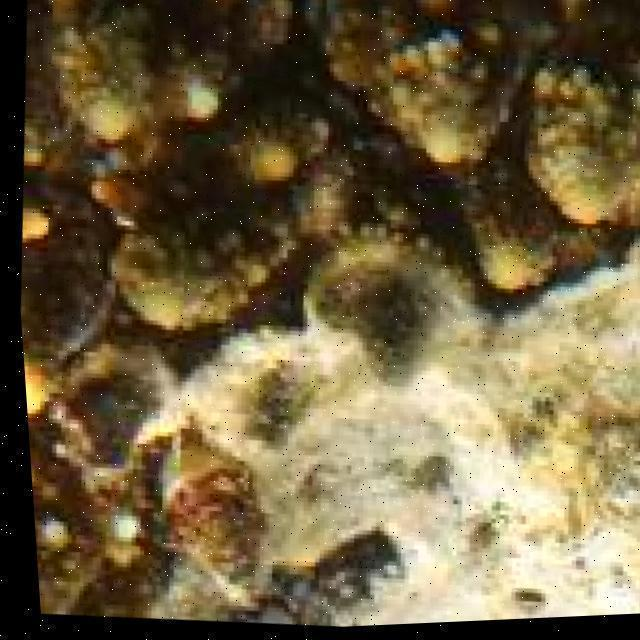Healthy Coral: (78, 0, 640, 338)
